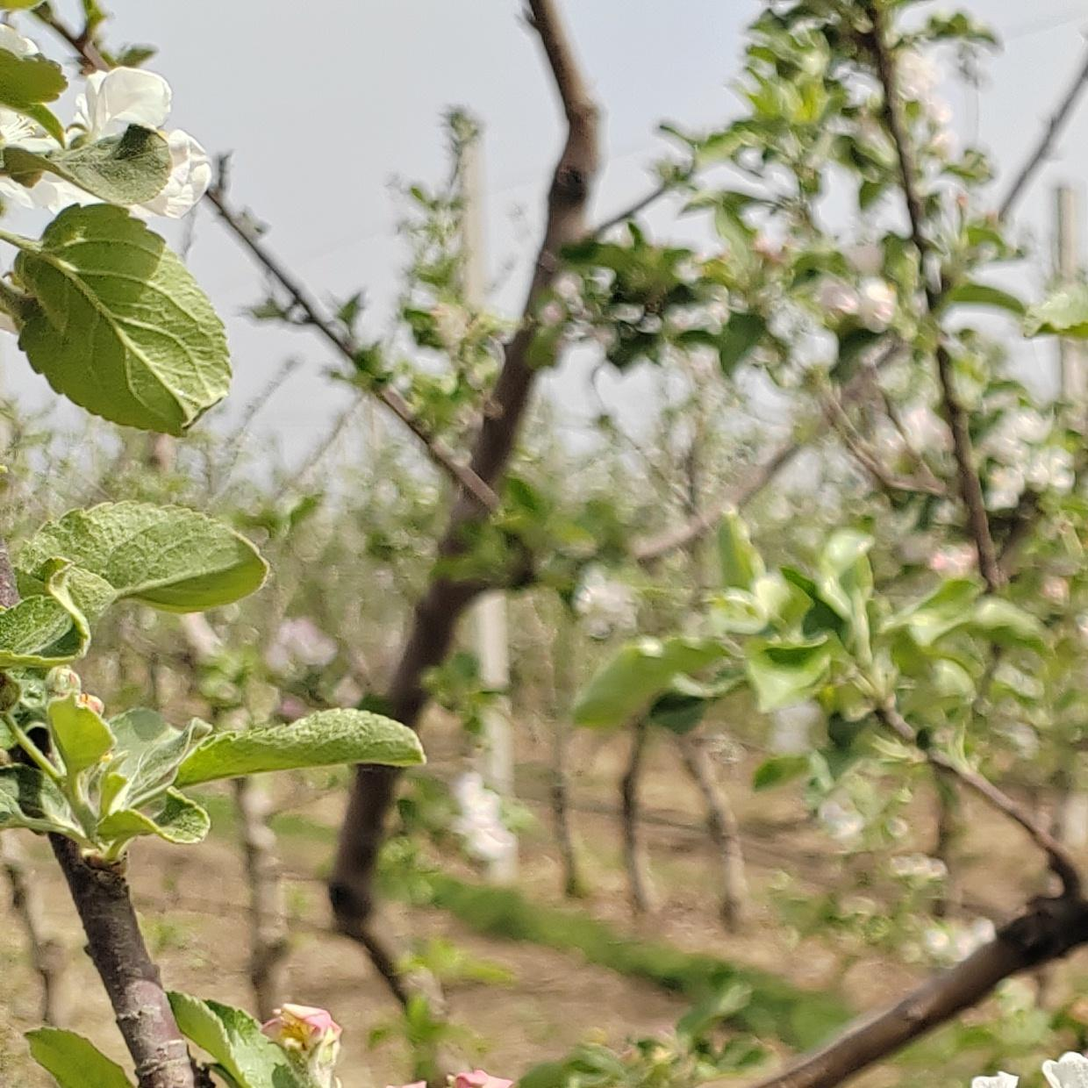apple_flower: (1038, 1051, 1088, 1088), (445, 1065, 509, 1088), (962, 1070, 1015, 1088)
